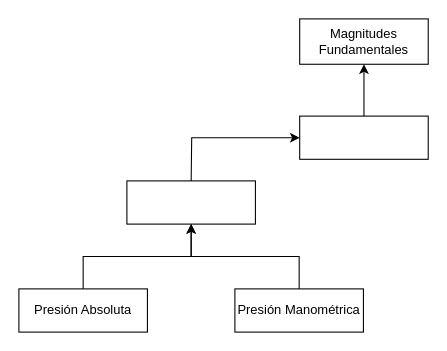
Some shapes in this 447 by 351 pixel diagram are drawn without their labels. Each missing label, with the centre of its shape:
"Magnitudes Drivadas" belongs at [363,137].
"Presión" belongs at [190,202].
